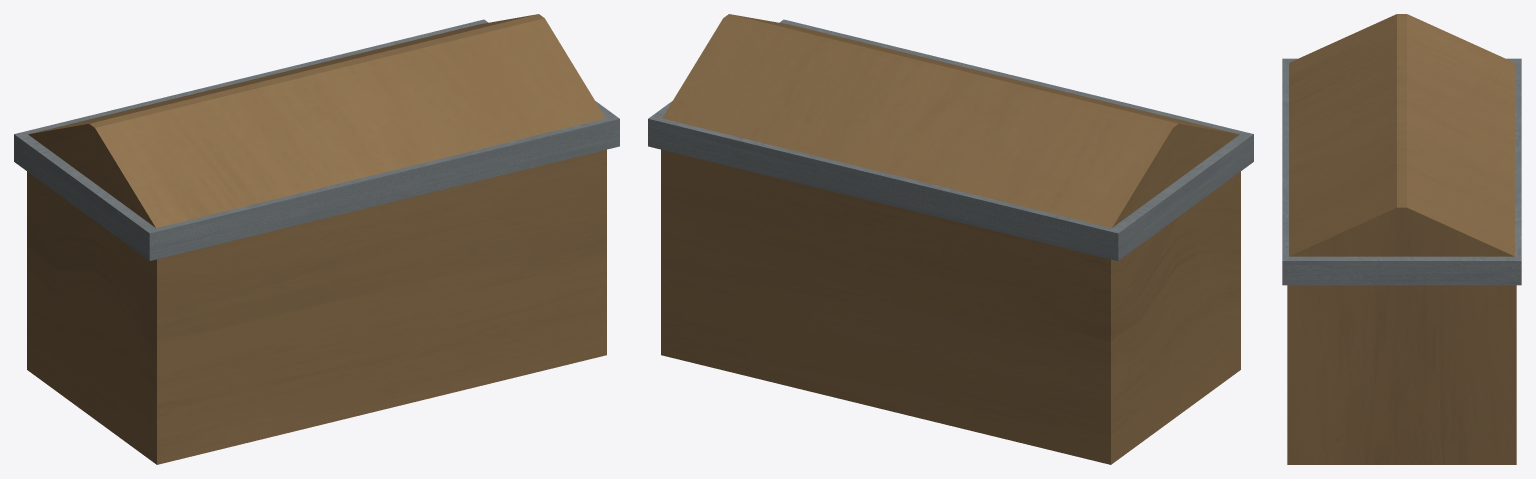
The model's file is BumperRailingx2.glb.
3 renders of one model, left to right at view 1: azimuth 30°, elevation 25°; view 2: azimuth 150°, elevation 25°; view 3: azimuth 270°, elevation 25°, orthographic. The views are drawn at different scales.
Visible parts, largest first — view 1: BumperRailingx2; view 2: BumperRailingx2; view 3: BumperRailingx2.
Boxes of the visible parts, bbox=[...] form: BumperRailingx2: bbox=[14, 14, 619, 464]; BumperRailingx2: bbox=[648, 14, 1253, 464]; BumperRailingx2: bbox=[1282, 14, 1521, 464].
Bounding box in the file's own units: 4.18 × 2.48 × 2.09.
Materials: 2 (2 with a texture image).
